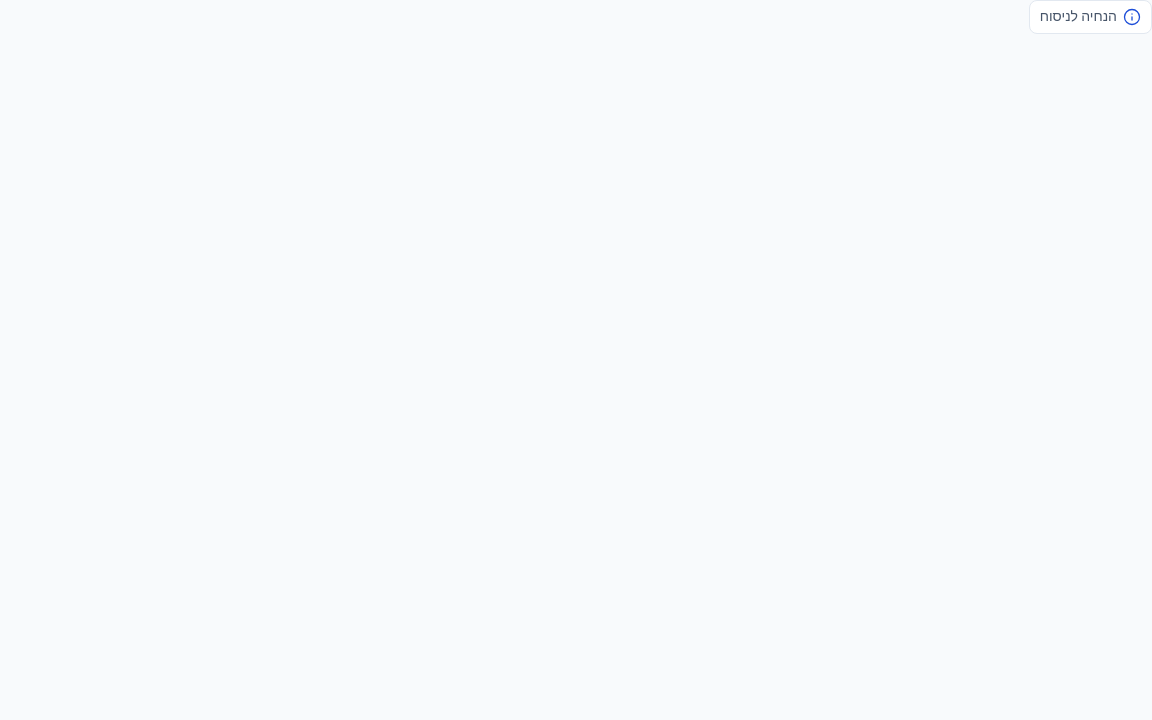
Test: Design System & Infrastructure Guards (Milestone 1) › opens InfoPopover helper content when clicked
Expected: the text "תוכן עזר ממוקד לניסוח יעד קונקרטי." is not shown
Click the button "הנחיה לניסוח" at [1090, 17], box [1029,0,1151,34]
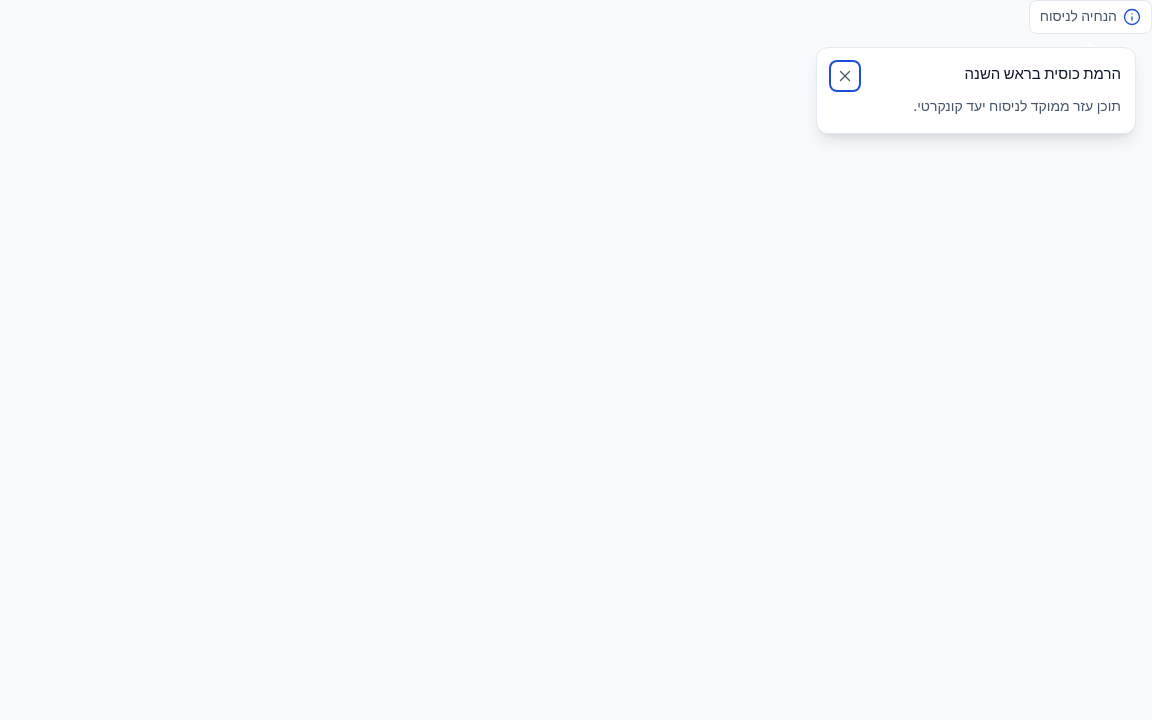
Expected: the text "הרמת כוסית בראש השנה" is shown, [964,62,1121,86]
Expected: the text "תוכן עזר ממוקד לניסוח יעד קונקרטי." is shown, [914,98,1121,115]
